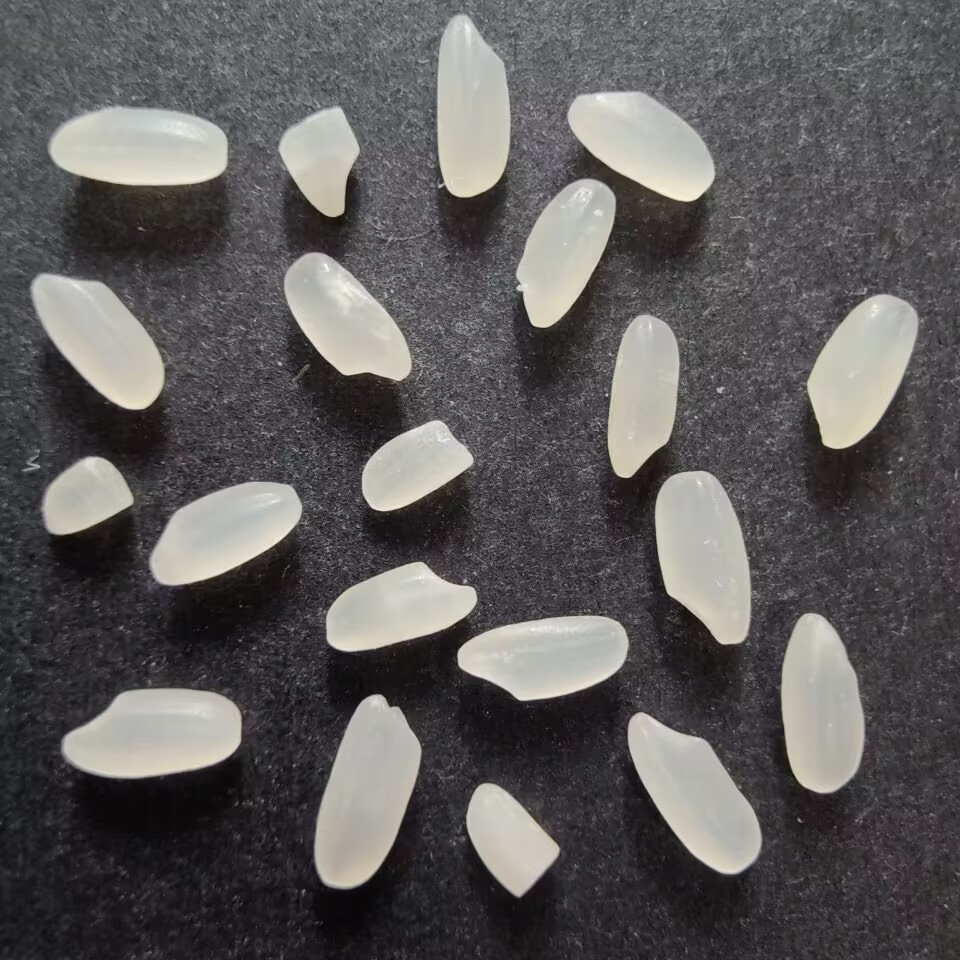broken: (357, 416, 478, 517), (463, 780, 565, 899), (275, 105, 363, 218), (39, 453, 140, 545)
rice: (625, 707, 766, 877), (311, 688, 426, 891), (25, 269, 171, 414), (59, 684, 250, 787), (649, 466, 753, 649), (281, 247, 413, 387), (564, 86, 720, 204), (807, 293, 925, 449), (149, 477, 303, 592), (779, 608, 871, 799), (453, 612, 632, 704), (42, 102, 231, 189), (431, 9, 516, 201), (514, 174, 616, 331), (320, 559, 483, 654), (605, 310, 683, 482)
